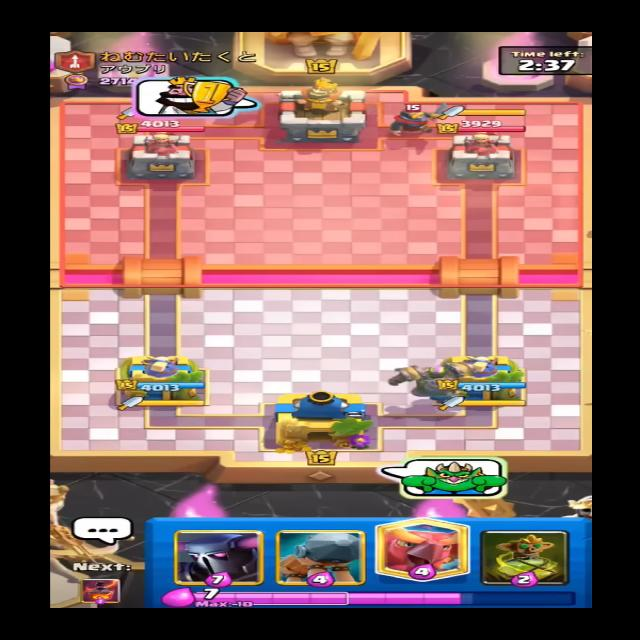knight: (387, 102, 444, 136)
